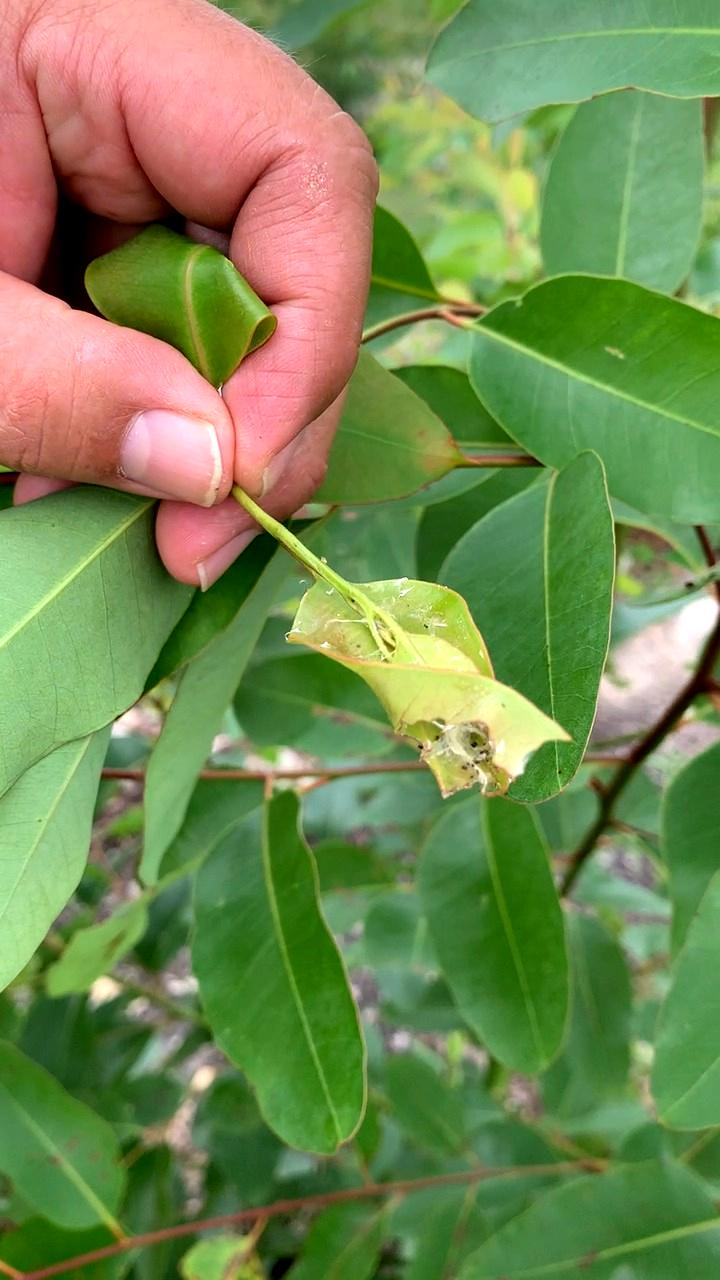Leaf Roller - Leaf: (296, 570, 563, 805)
